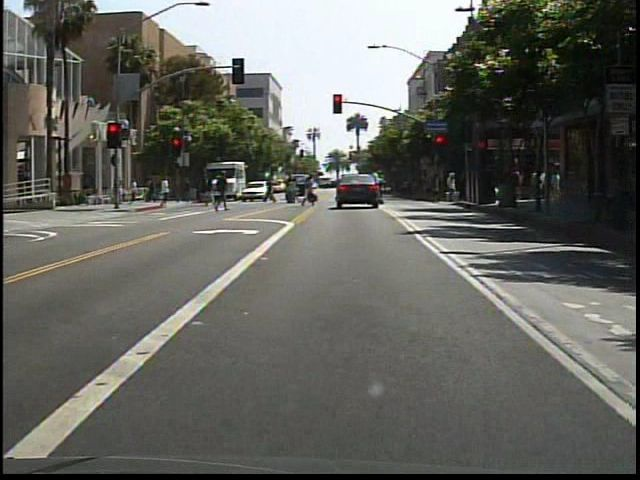person: (358, 164, 382, 210), (214, 170, 236, 214), (302, 173, 321, 211), (159, 176, 176, 210)
